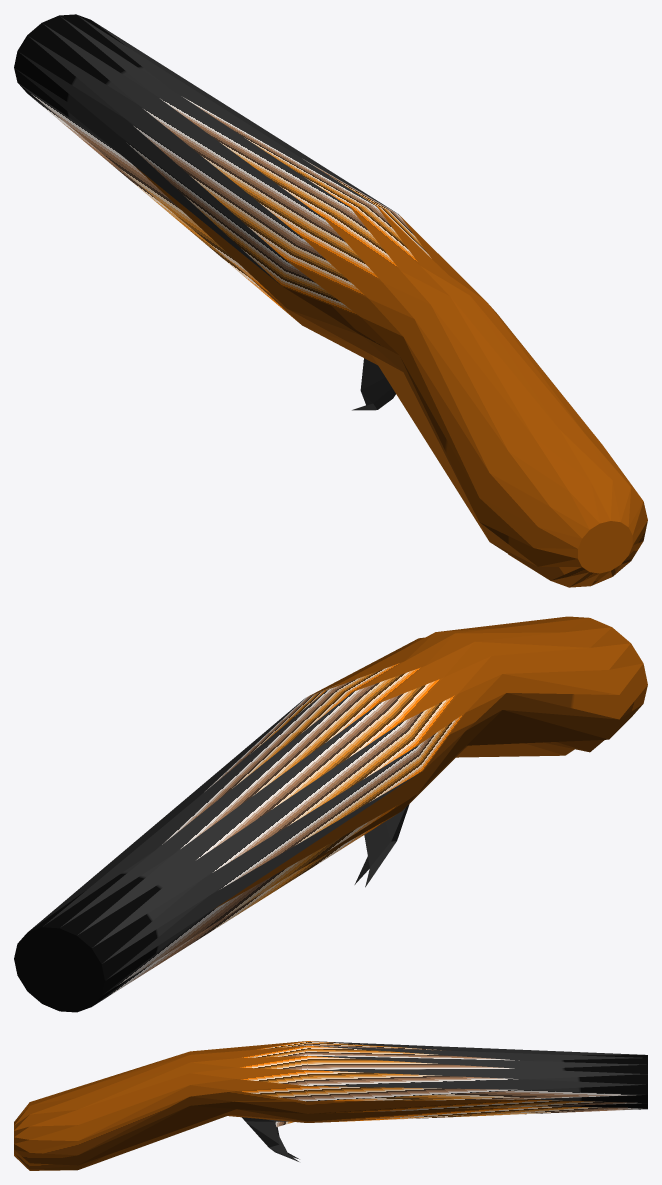
File: gun.fbx
The picture shows the model from 3 angles, top to bottom: view 1: azimuth 30°, elevation 25°; view 2: azimuth 150°, elevation 25°; view 3: azimuth 270°, elevation 25°; orthographic projection. The views are drawn at different scales.
Visible parts, largest first — view 1: Cylinder; view 2: Cylinder; view 3: Cylinder.
Part boxes in pixels (x1=…): Cylinder: x1=14, y1=14, x2=647, y2=587; Cylinder: x1=14, y1=616, x2=647, y2=1012; Cylinder: x1=14, y1=1041, x2=647, y2=1170.
Size of the model in its own units: 118 by 170 by 812.
